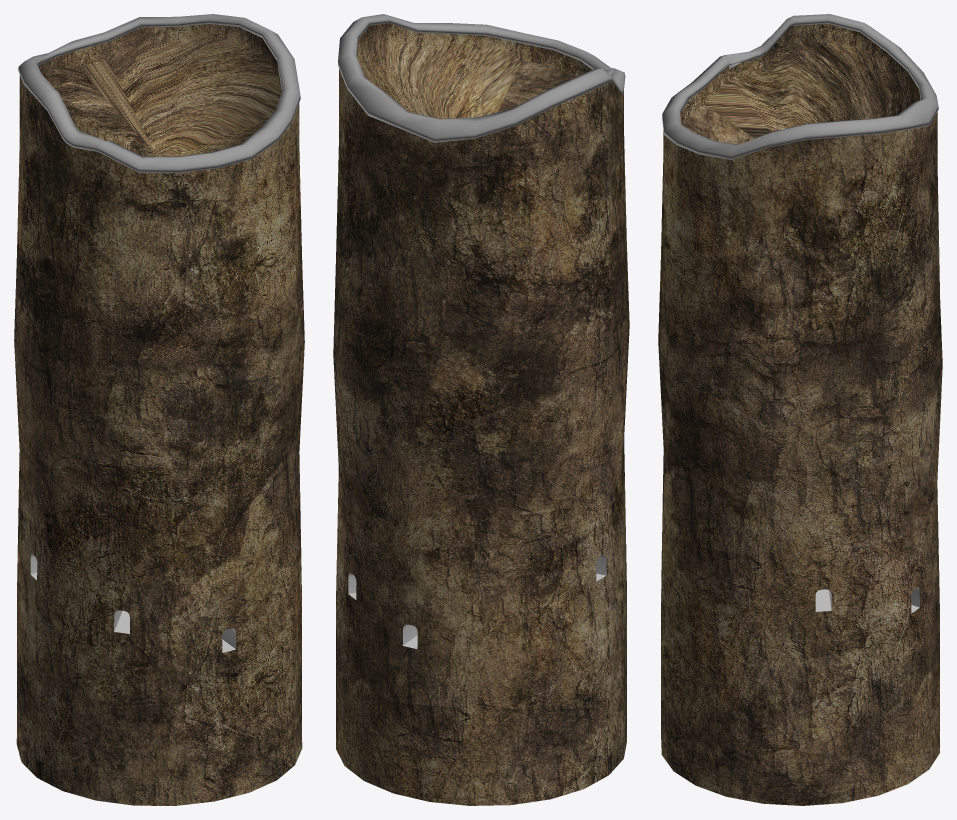
Rendered from tower04.FBX.
The picture shows the model from 3 angles, left to right: view 1: azimuth 30°, elevation 25°; view 2: azimuth 150°, elevation 25°; view 3: azimuth 270°, elevation 25°; orthographic projection. The views are drawn at different scales.
Parts seen in each view (by area): view 1: base004; view 2: base004; view 3: base004.
Part boxes in pixels (bbox=[...]): base004: bbox=[14, 14, 304, 805]; base004: bbox=[333, 14, 629, 805]; base004: bbox=[658, 14, 942, 805].
Bounding box in the file's own units: 176 × 462 × 176.
